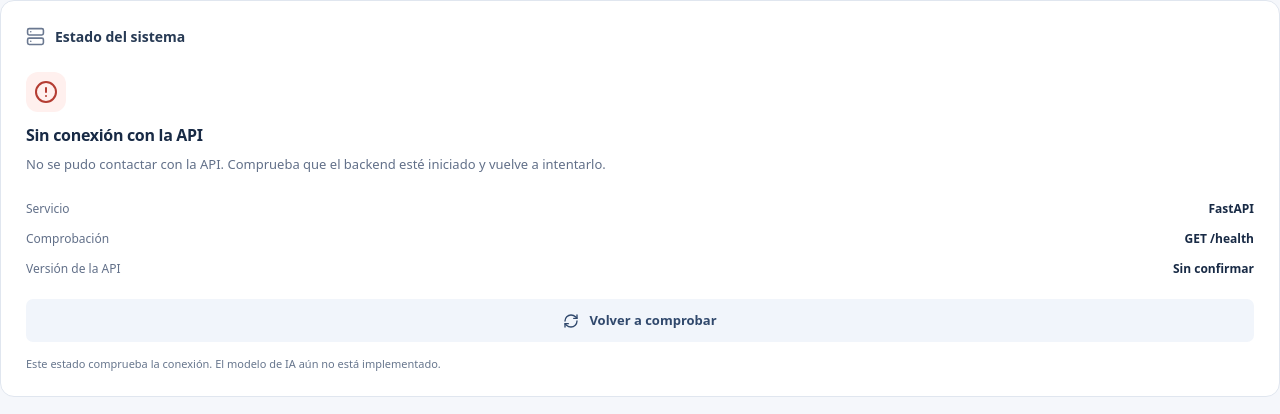
Test: Estado de conexión de la API › permite recuperar la conexión después de un error de red
Expected: the heading "Sin conexión con la API" is shown, [26,124,203,146]
Click the button "Volver a comprobar" at (640, 321), box [26,299,1254,342]
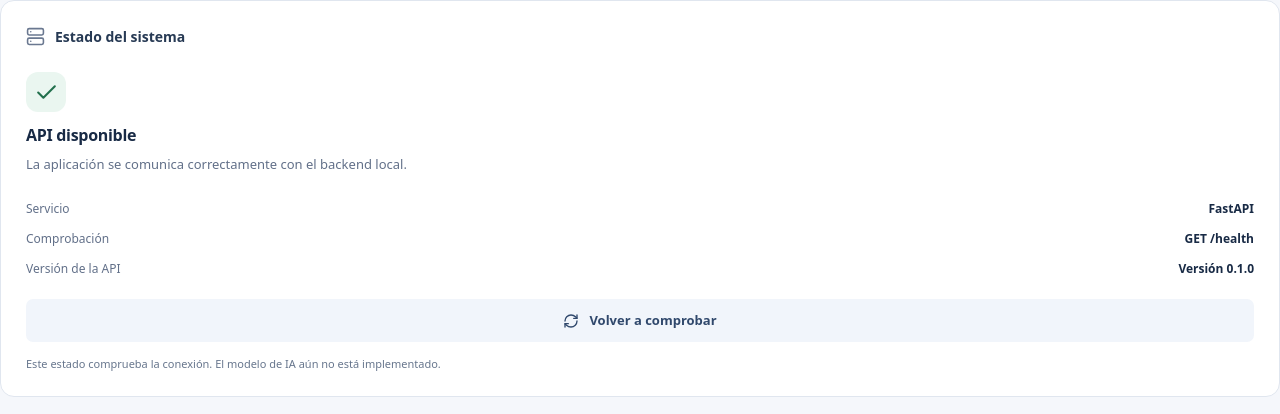
Now the heading "API disponible" is shown, box [26,124,136,146]
